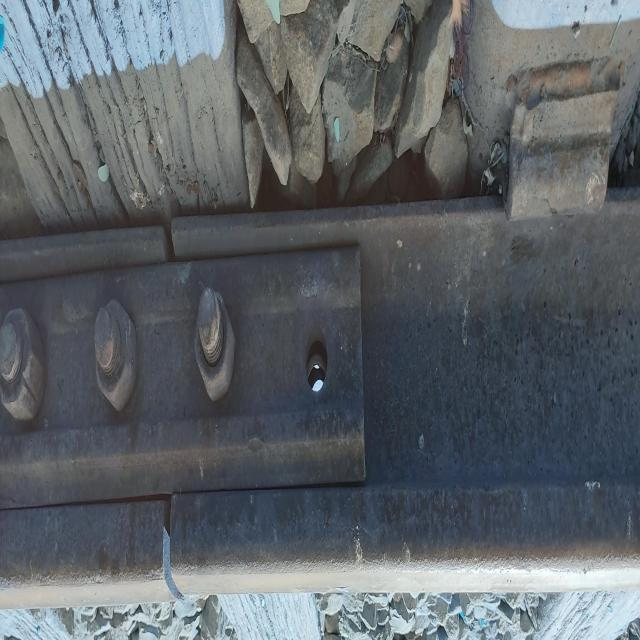Defective Joint: (0, 231, 361, 512)
